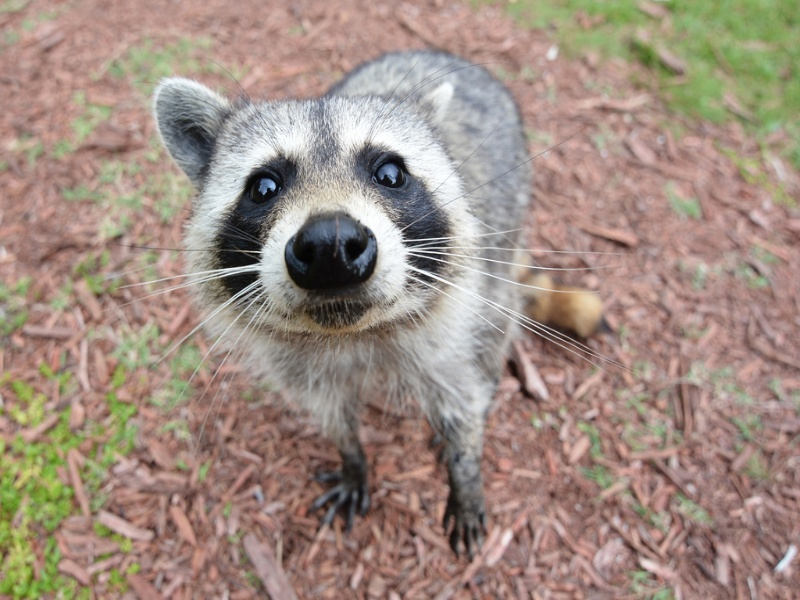raccoon: (152, 49, 554, 558)
